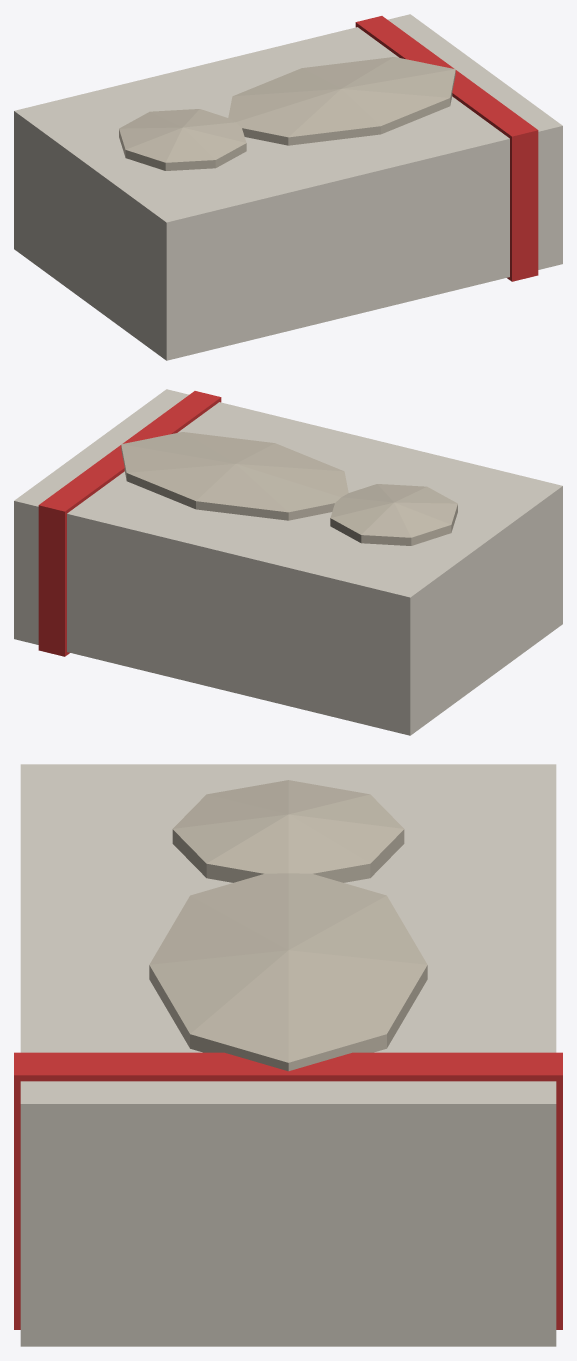
File: plaster_mold.glb
3 views of the same model, one above another, from view 1: azimuth 30°, elevation 25°; view 2: azimuth 150°, elevation 25°; view 3: azimuth 270°, elevation 25° (orthographic). The views are drawn at different scales.
Parts seen in each view (by area): view 1: block_plaster, shape_plaster_inside, strap_mold_strap; view 2: block_plaster, shape_plaster_inside, strap_mold_strap; view 3: block_plaster, shape_plaster_inside, strap_mold_strap.
Part boxes in pixels (x1,y1,x2,y2): block_plaster: (14, 14, 562, 360); shape_plaster_inside: (119, 57, 455, 170); strap_mold_strap: (355, 16, 538, 281); block_plaster: (14, 389, 562, 735); shape_plaster_inside: (121, 432, 457, 545); strap_mold_strap: (38, 391, 221, 656); block_plaster: (20, 764, 556, 1346); shape_plaster_inside: (149, 780, 427, 1071); strap_mold_strap: (14, 1052, 562, 1329).
Size of the model in its own units: 0.3 by 0.1145 by 0.205.
